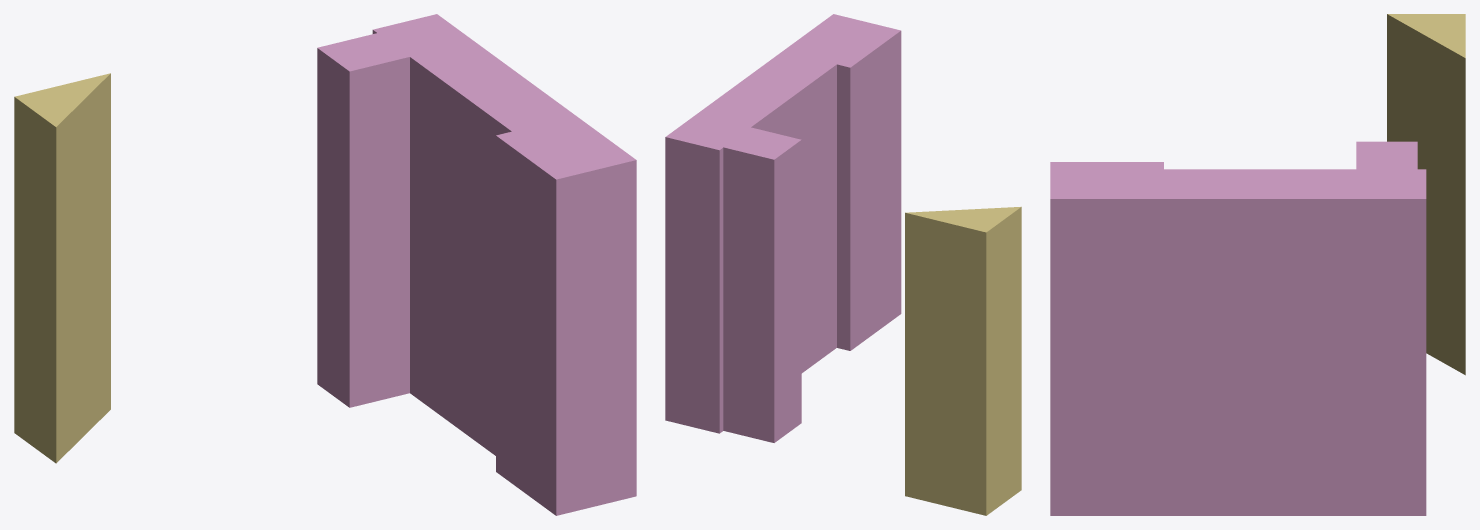
File: snap_pair_demo.glb
The picture shows the model from 3 angles, left to right: view 1: azimuth 30°, elevation 25°; view 2: azimuth 150°, elevation 25°; view 3: azimuth 270°, elevation 25°; orthographic projection. The views are drawn at different scales.
Parts seen in each view (by area): view 1: snap_finger, snap_catch; view 2: snap_finger, snap_catch; view 3: snap_finger, snap_catch.
Part boxes in pixels (left/top/right/bottom): snap_finger: left=317, top=14, right=636, bottom=515; snap_catch: left=14, top=73, right=110, bottom=463; snap_finger: left=665, top=14, right=901, bottom=442; snap_catch: left=905, top=206, right=1021, bottom=515; snap_finger: left=1050, top=141, right=1426, bottom=515; snap_catch: left=1387, top=14, right=1465, bottom=375.
Bounding box in the file's own units: 10 × 8 × 9.5.
